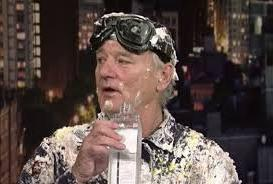Drunk: (96, 40, 152, 115)
